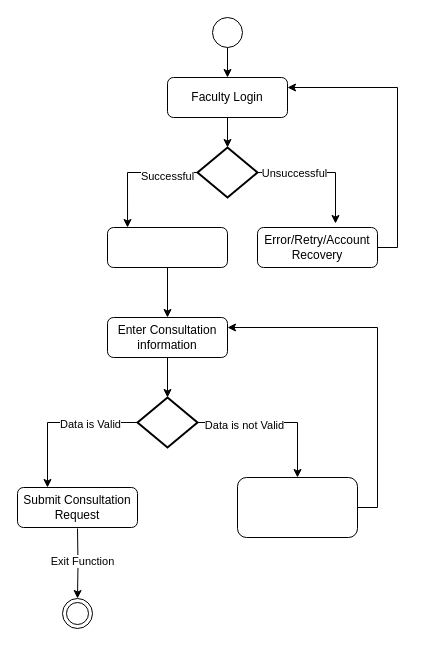
Image size: 423x646. Some labels were removed from this diagram. Each missing label, with the centre of its shape:
"Select Consultations" belongs at (167,247).
"Specified Data Validation Error(s) / User Corrects and Retries" belongs at (297,507).
